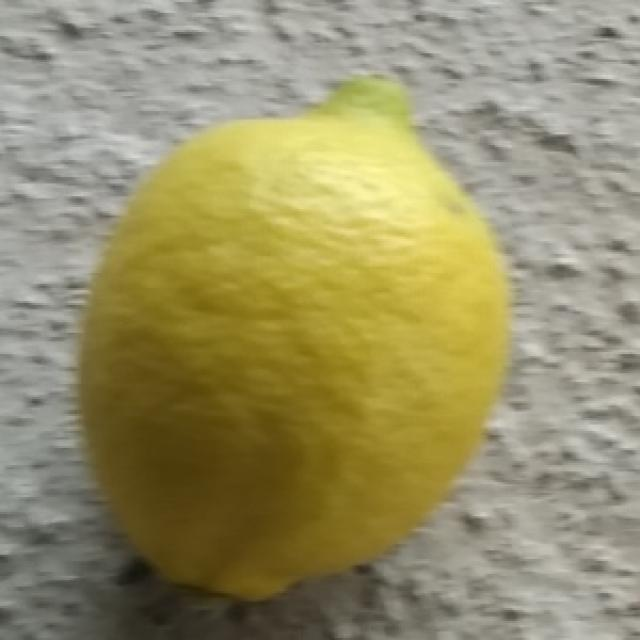Lemon: (78, 73, 505, 608)
